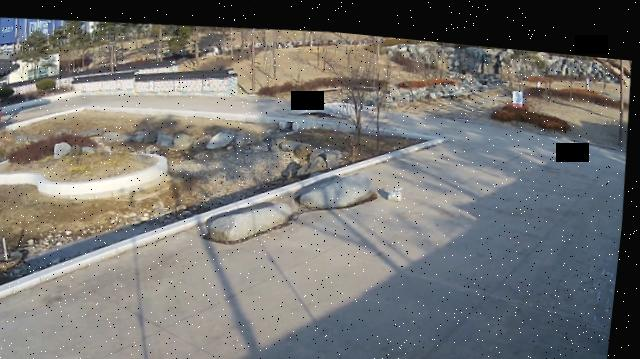trash: (390, 175, 406, 193)
